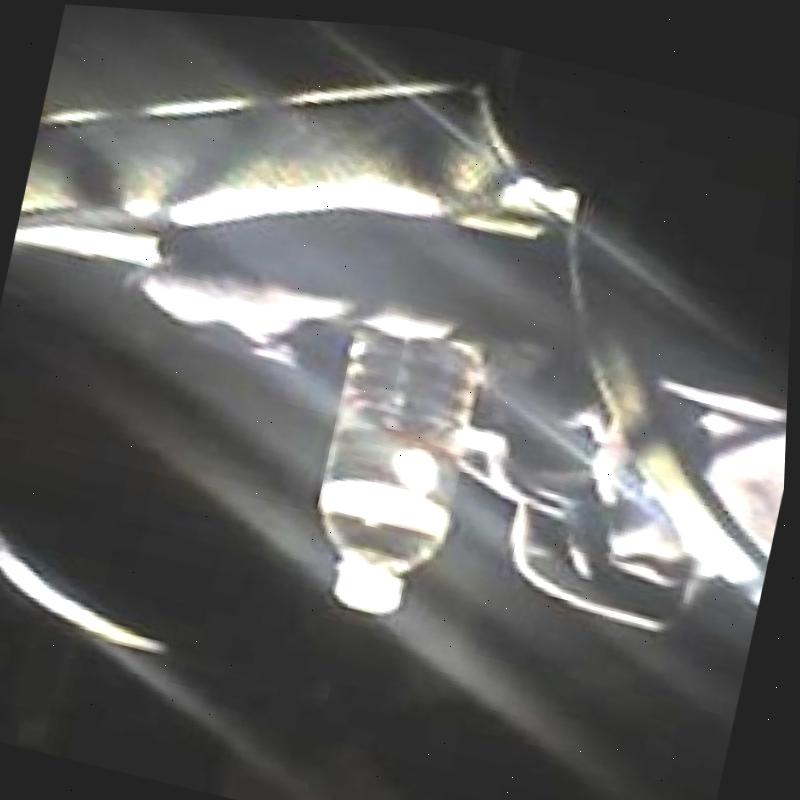botella: (295, 313, 491, 622)
